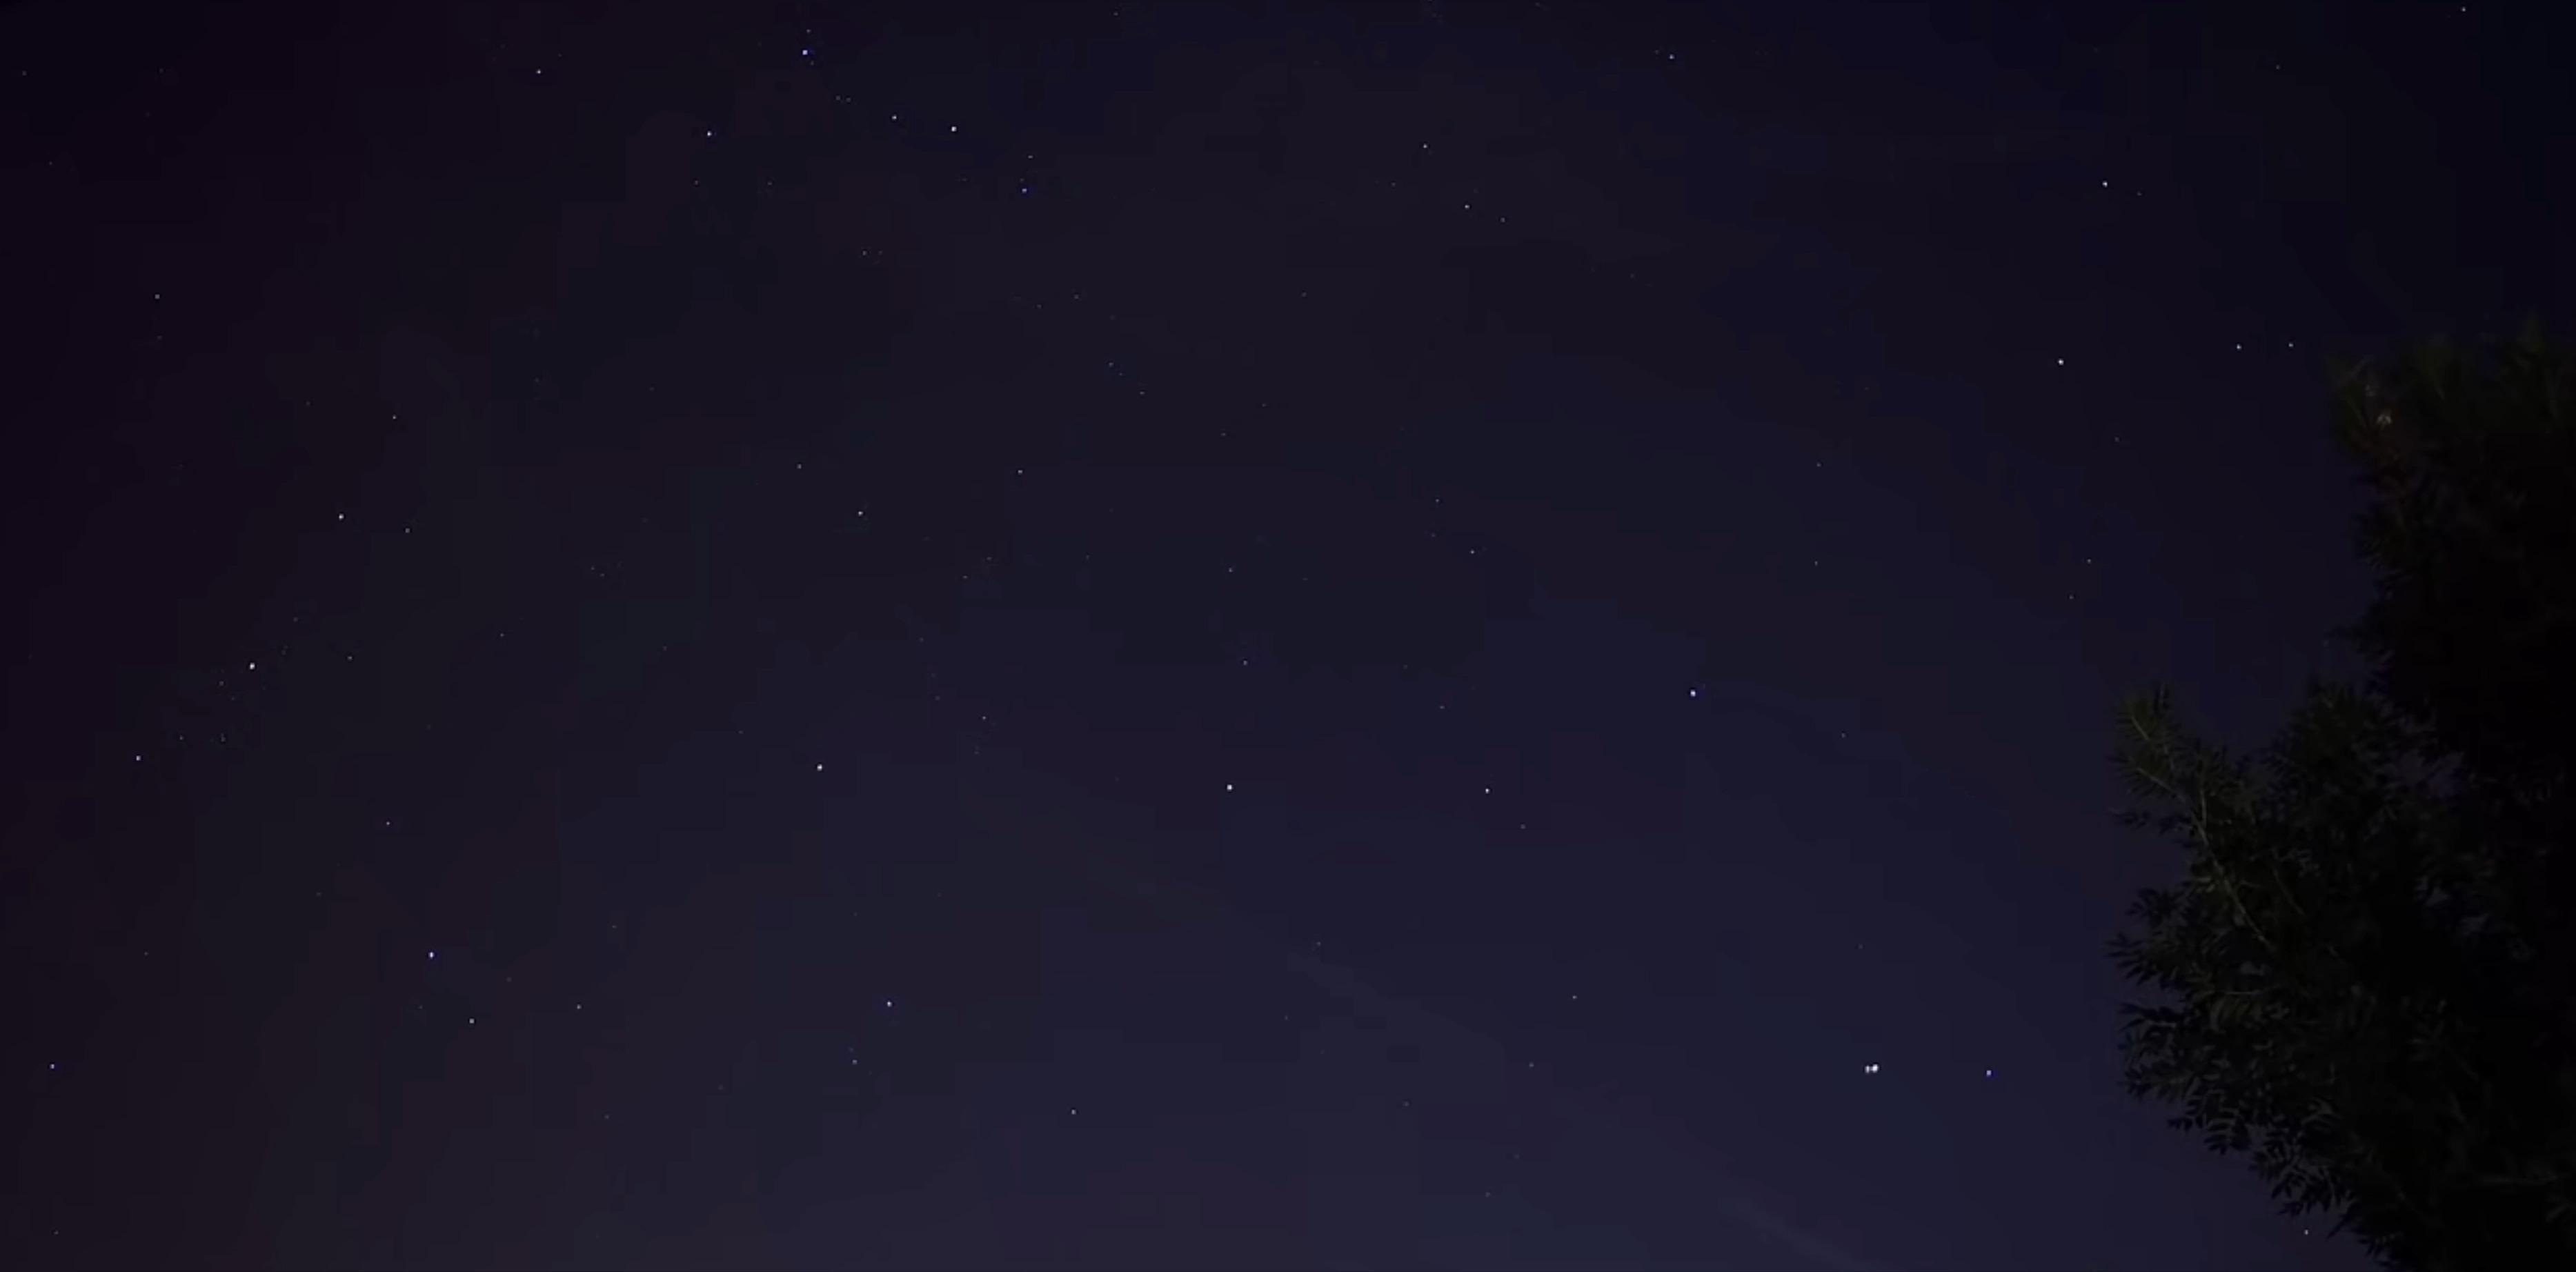Plane: (1850, 1048, 1893, 1080)
